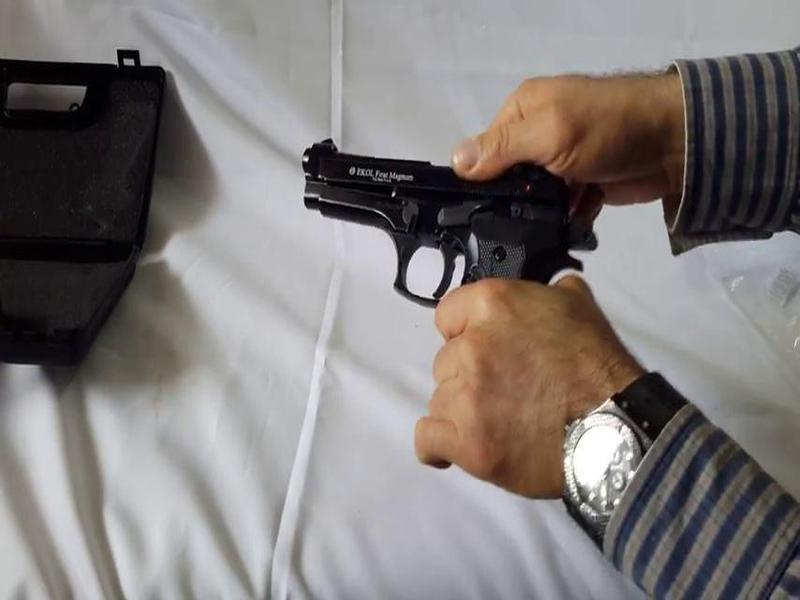Pistola: (280, 120, 637, 336)
